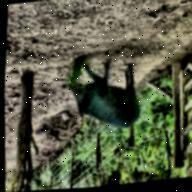boar: (63, 57, 150, 140)
